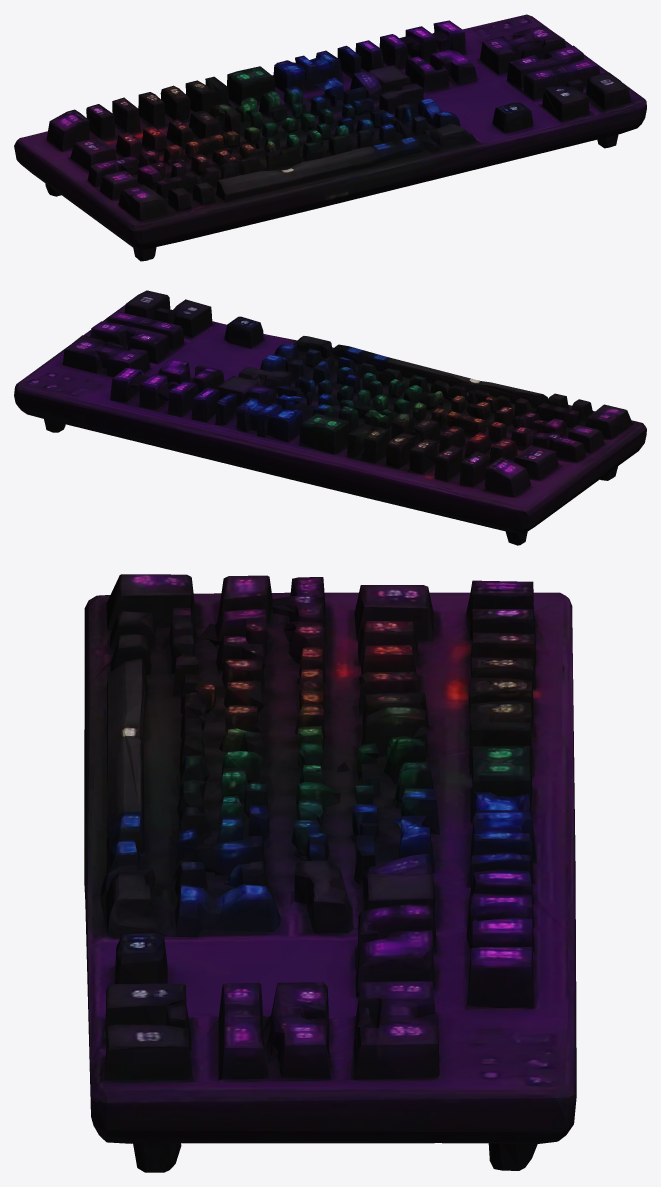
The picture shows the model from 3 angles, top to bottom: view 1: azimuth 30°, elevation 25°; view 2: azimuth 150°, elevation 25°; view 3: azimuth 270°, elevation 25°; orthographic projection. The views are drawn at different scales.
Visible parts, largest first — view 1: geometry_0; view 2: geometry_0; view 3: geometry_0.
Part boxes in pixels (left/top/right/bottom): geometry_0: left=14, top=14, right=646, bottom=261; geometry_0: left=14, top=290, right=646, bottom=545; geometry_0: left=84, top=574, right=576, bottom=1172.
Size of the model in its own units: 0.9989 by 0.1374 by 0.4119.
1 material, 1 textured.
